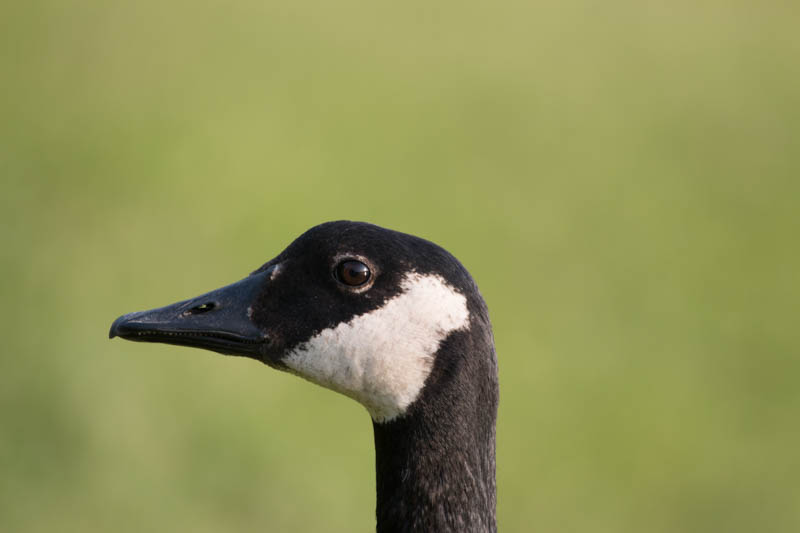goose-head: (109, 221, 500, 422)
